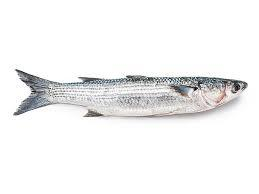Mullet: (12, 75, 247, 120)
